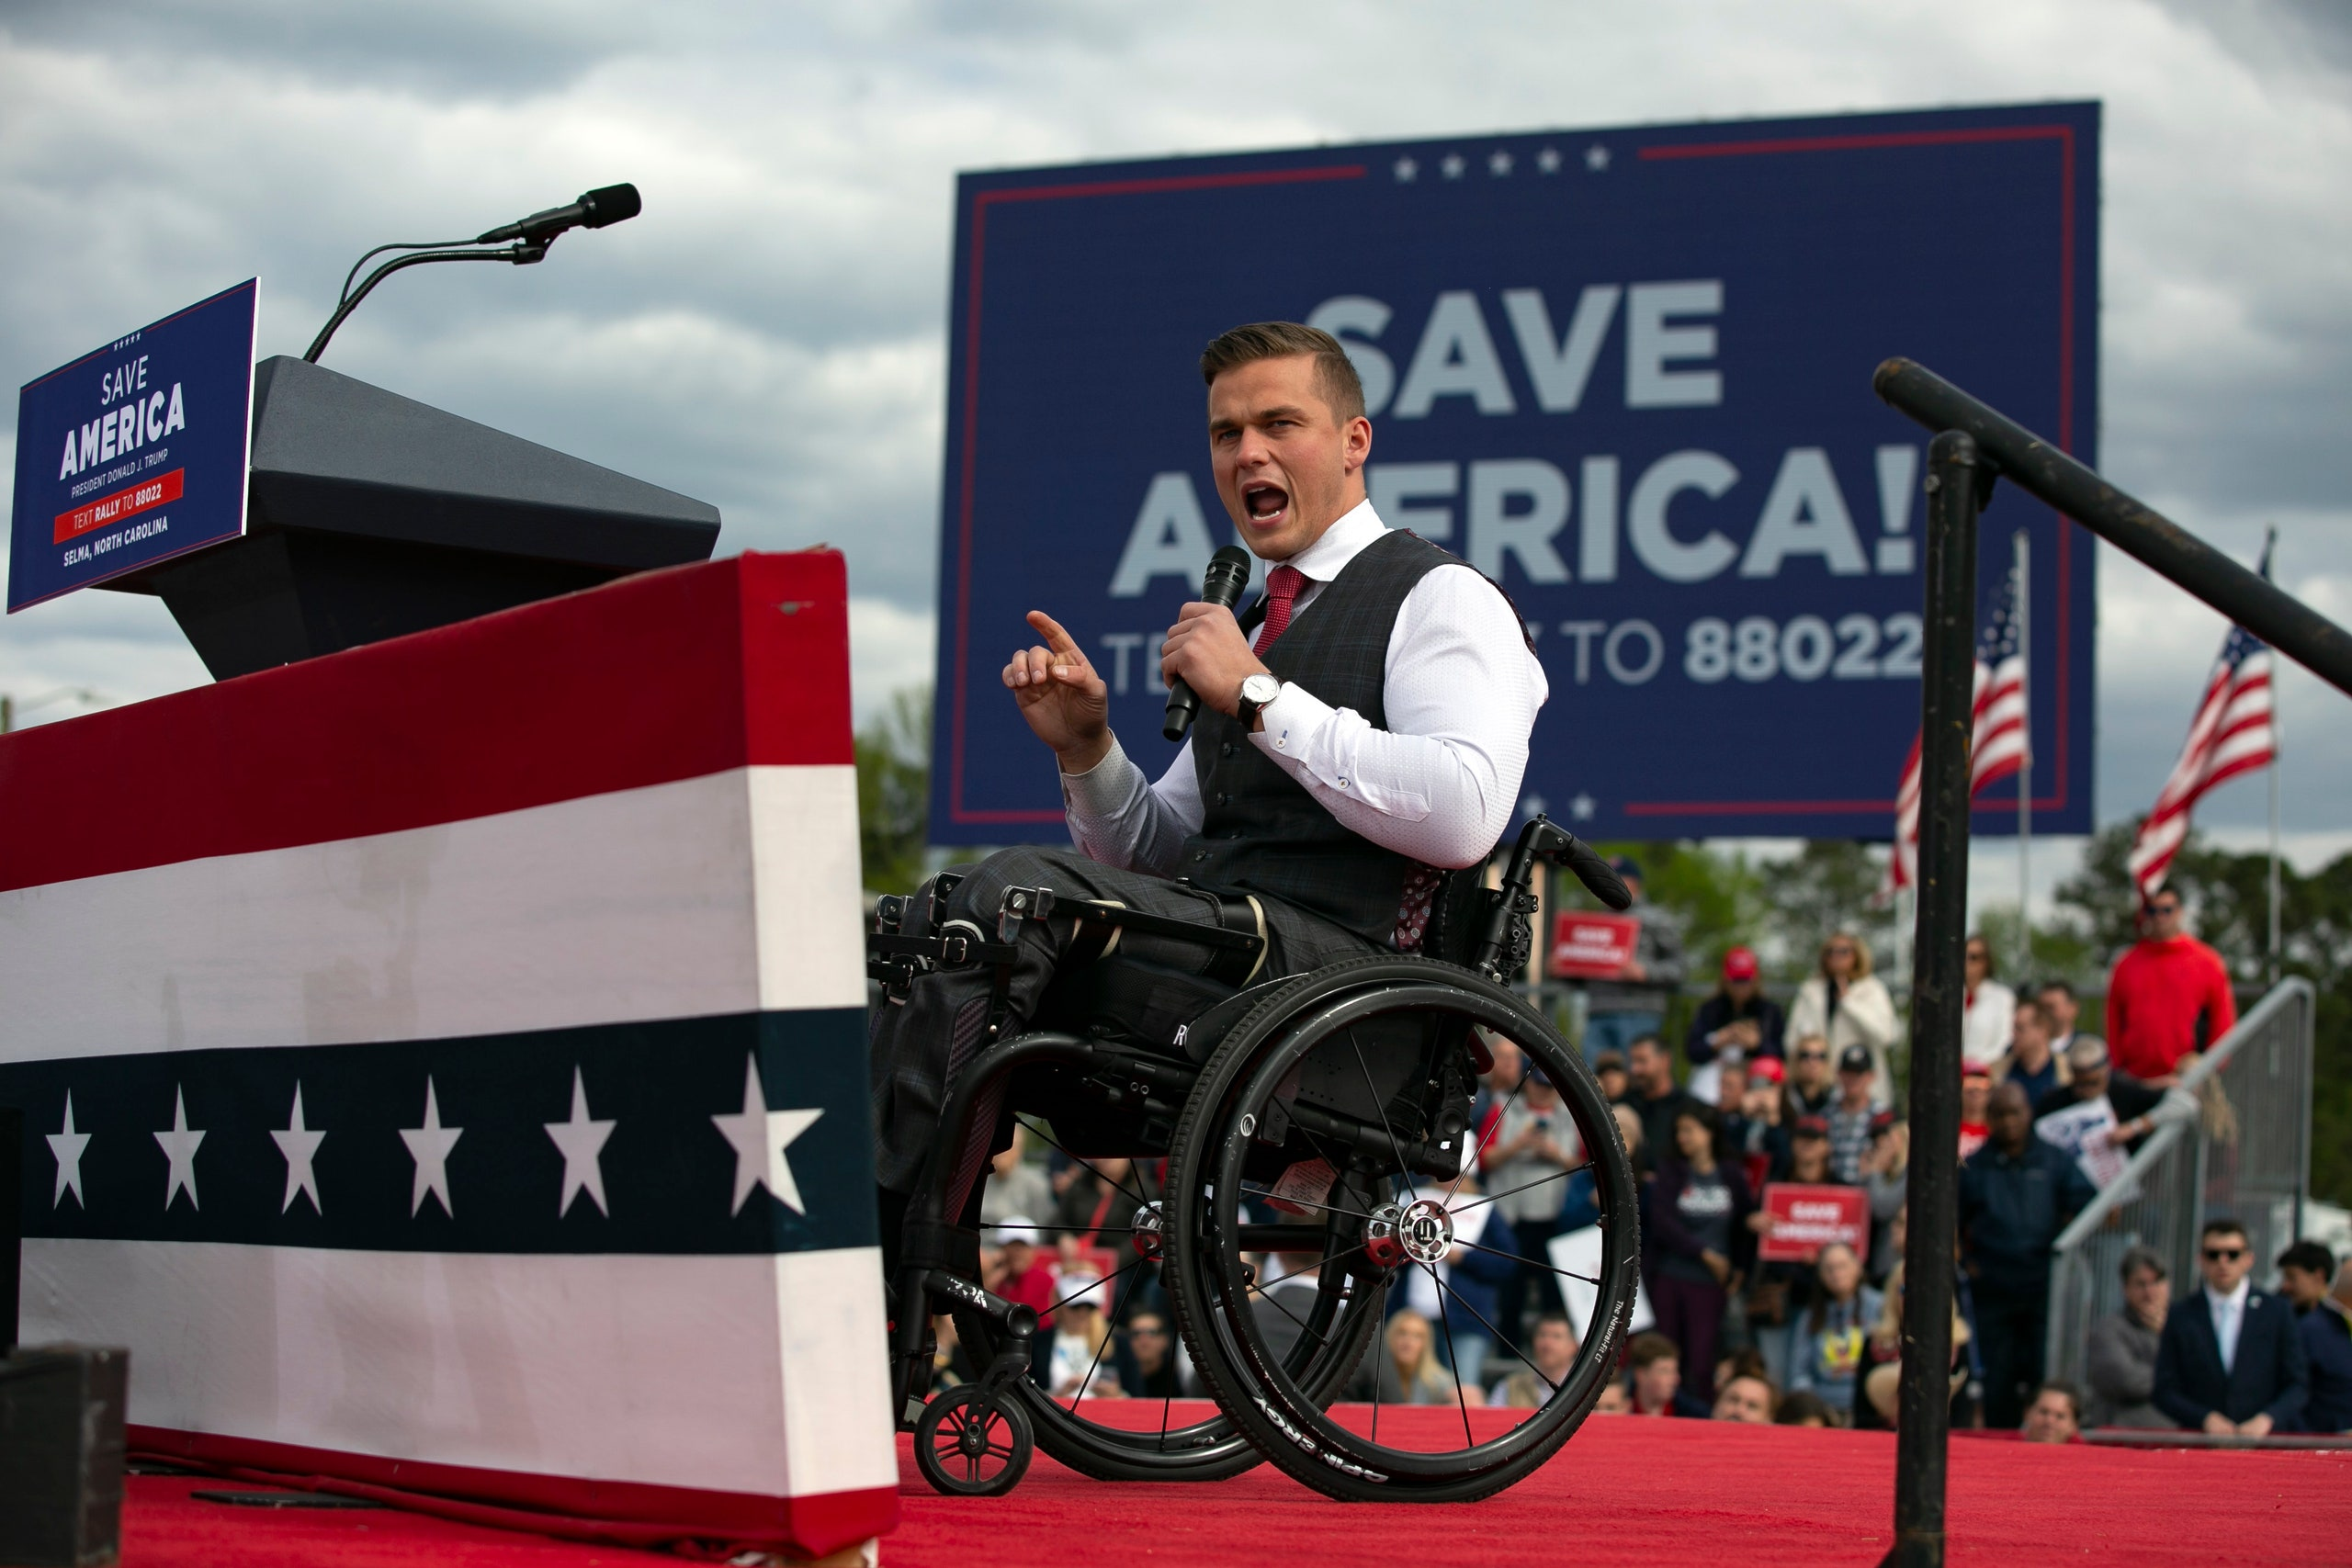wheelchair: (863, 322, 1643, 1491)
